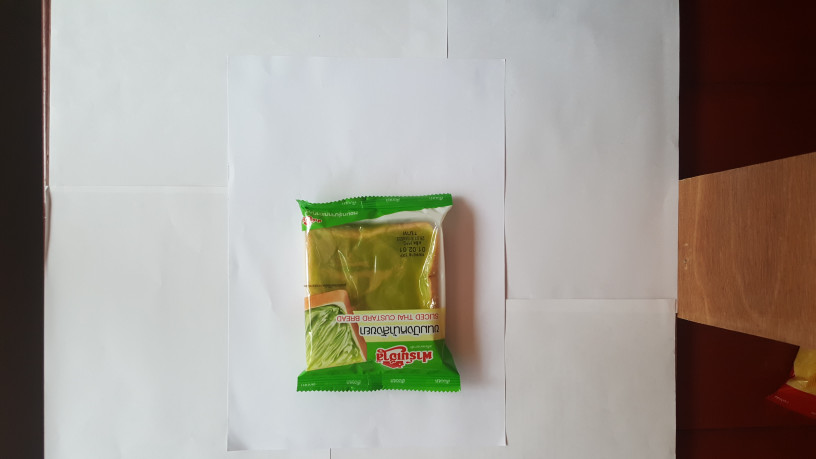farmhouse-bread-pandan: (272, 193, 471, 395)
